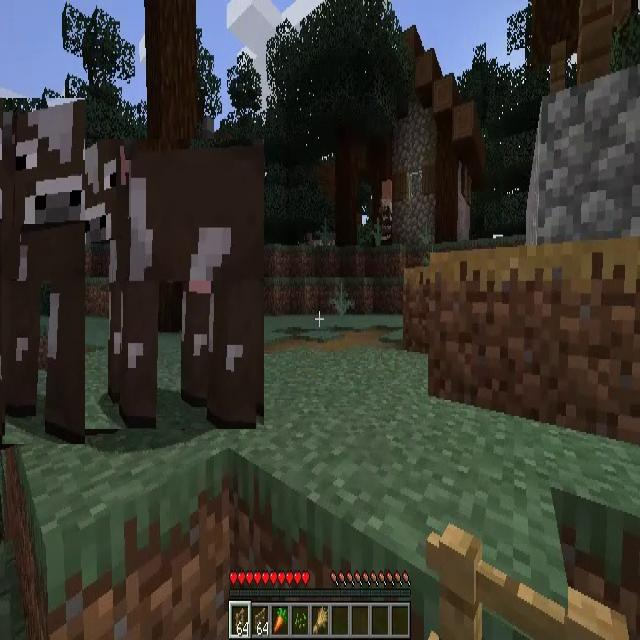cow: (74, 139, 264, 429), (2, 98, 85, 444)
